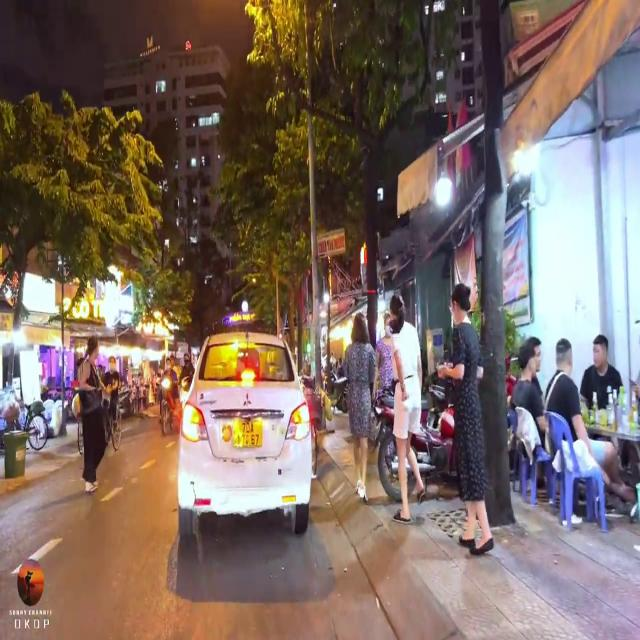bien_vang: (234, 421, 264, 450)
